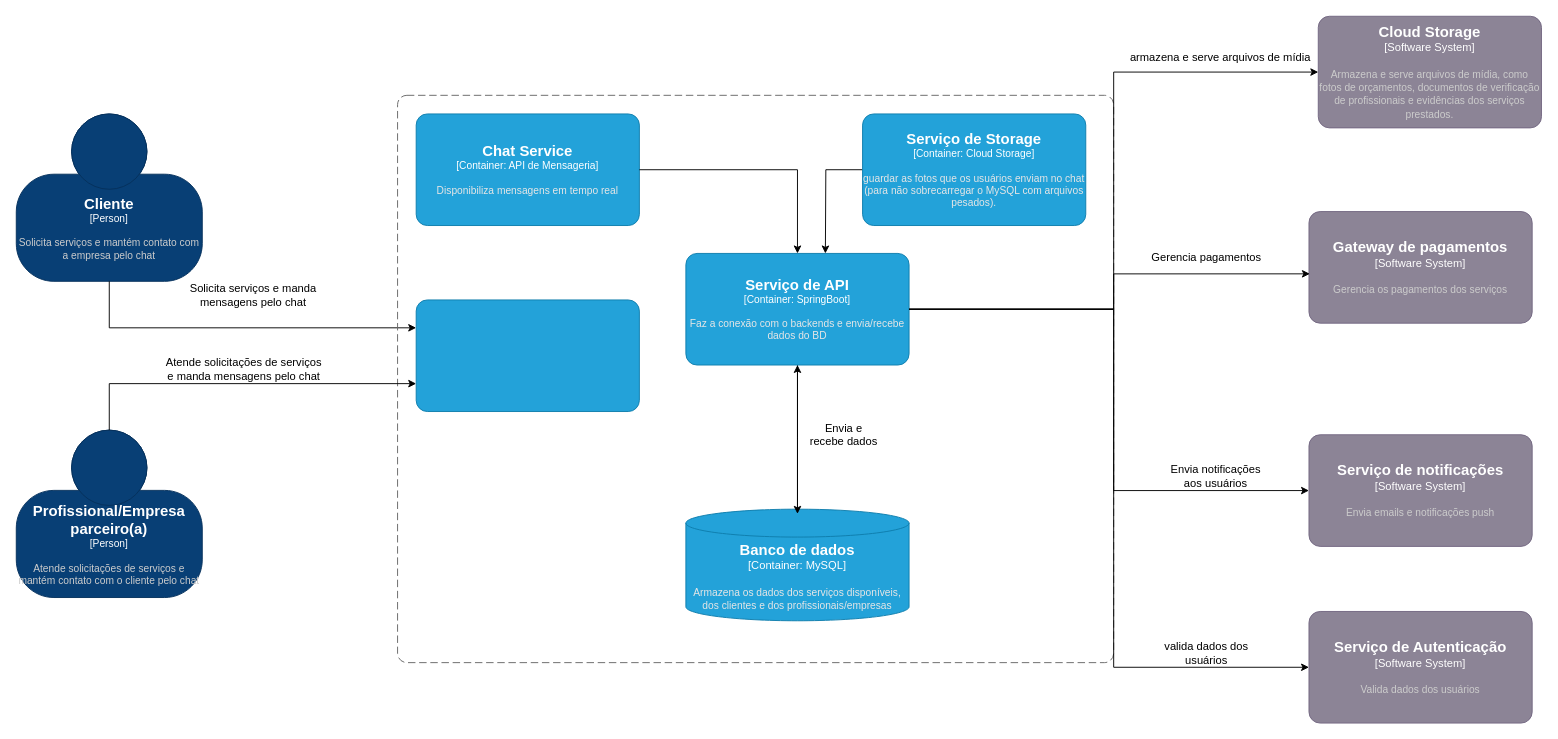
The diagram is 1558 pixels wide and 739 high, and some of its shapes have lost their labels. The box of each missing label's shape, as (x1, y1, x2, y2) in pixels:
Aplicação mobile/web [Container: React Native/Next.Js] Interface do usuário: (415, 299, 639, 412)
System name [Software System]: (397, 94, 1114, 663)
